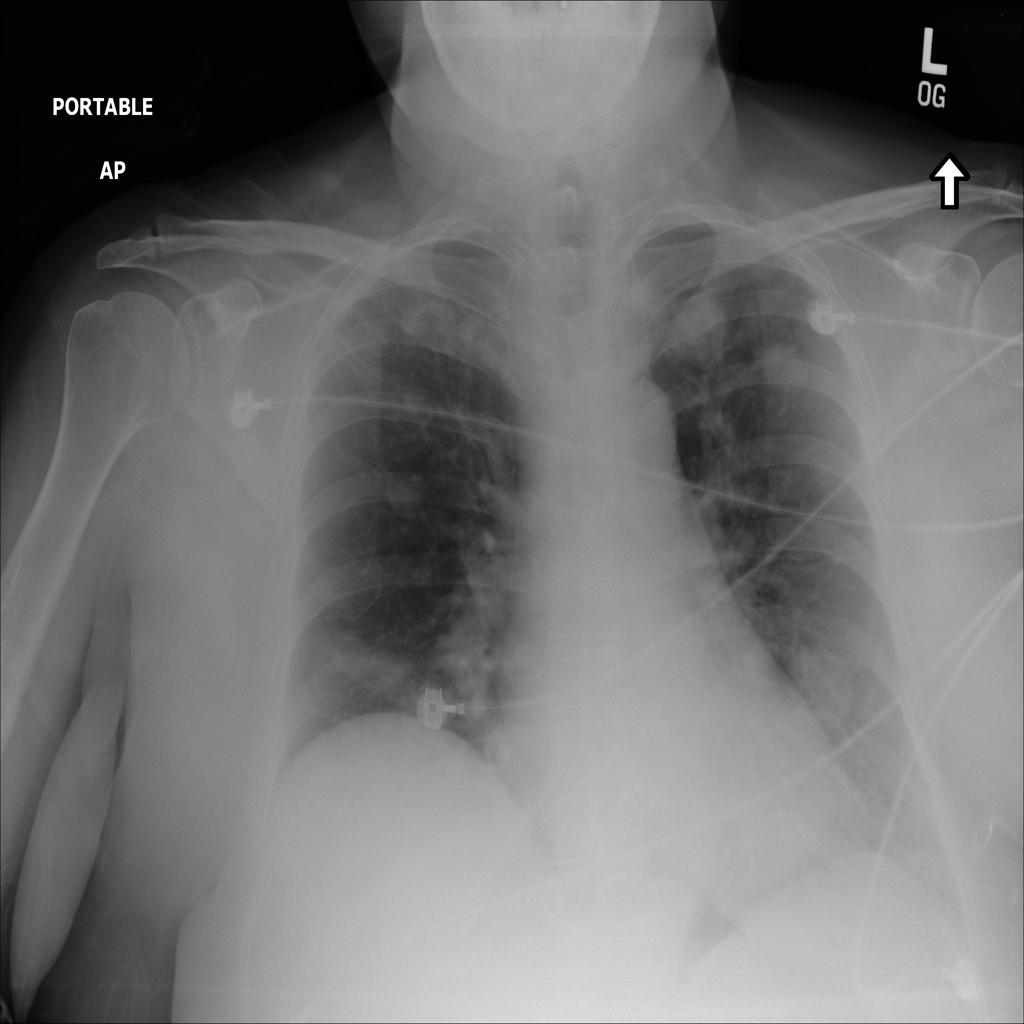nodule: (774, 627, 879, 742), (661, 292, 742, 370), (744, 327, 823, 400), (371, 457, 437, 531), (387, 286, 457, 355)
